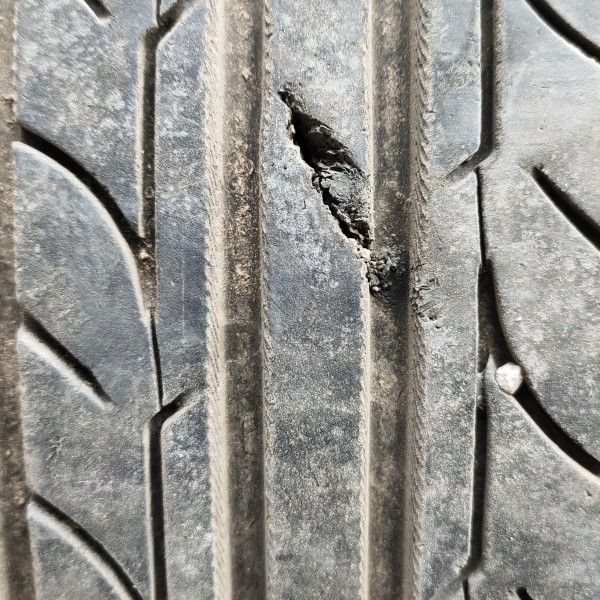tr: (272, 84, 404, 299)
